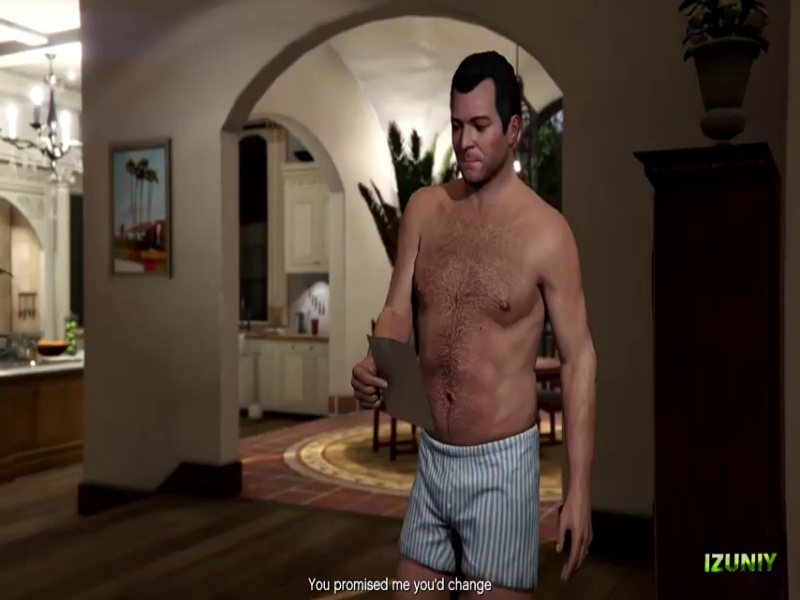human: (345, 40, 596, 592)
